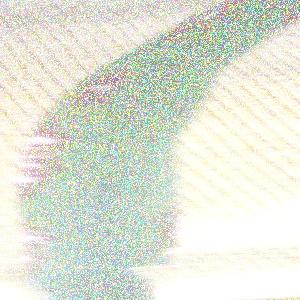Brown_Spot: (155, 1, 242, 48), (61, 62, 124, 120), (18, 122, 83, 153), (9, 167, 64, 193), (12, 152, 72, 174), (19, 227, 60, 256), (9, 246, 55, 270)
